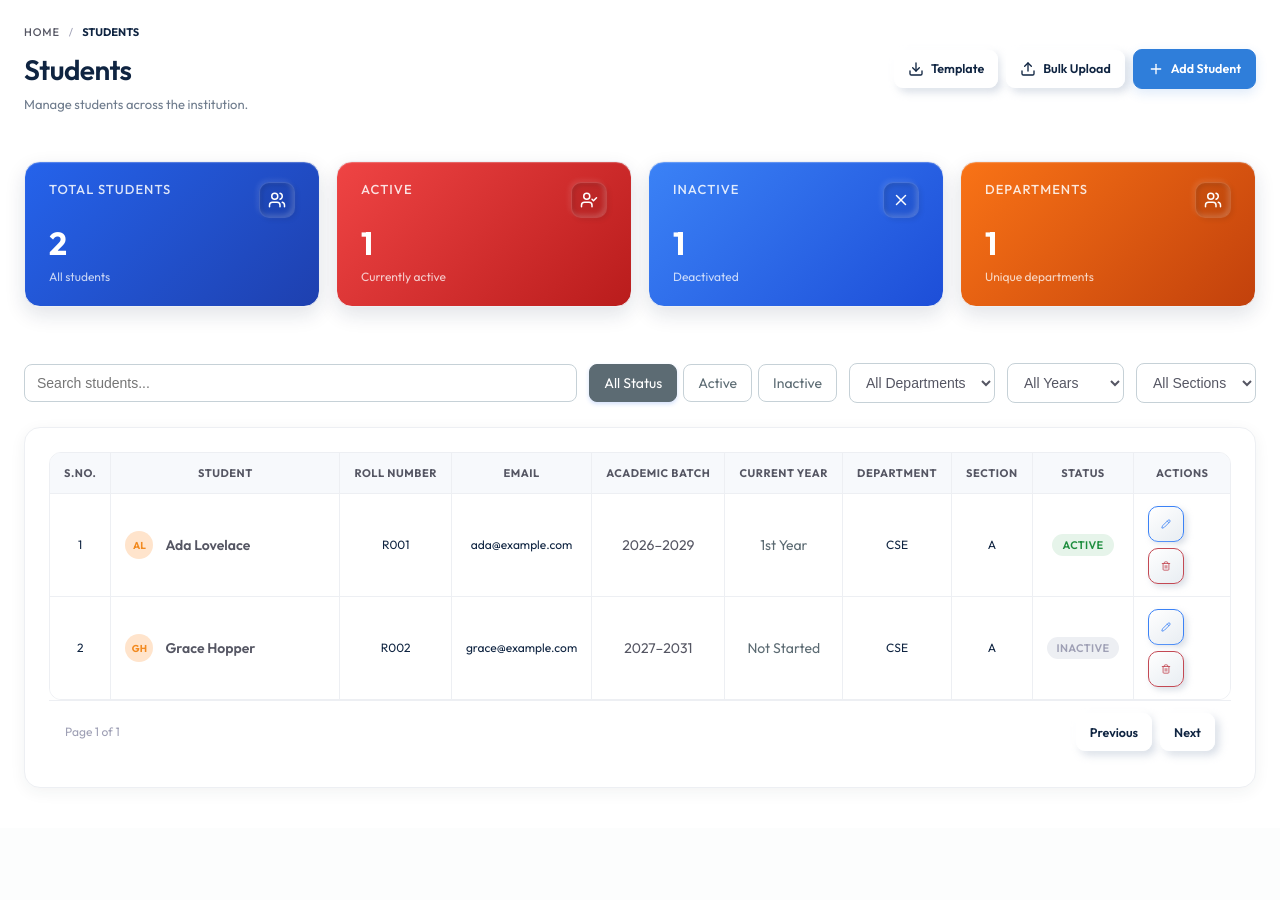
Test: clicking the Active badge opens the deactivation confirmation
The image size is (1280, 900).
Expected: the text "Ada Lovelace" is shown, [165,536,250,554]
Click the button with aria-label "Deactivate Ada Lovelace".
click(1083, 545)  # box [1052,534,1114,556]
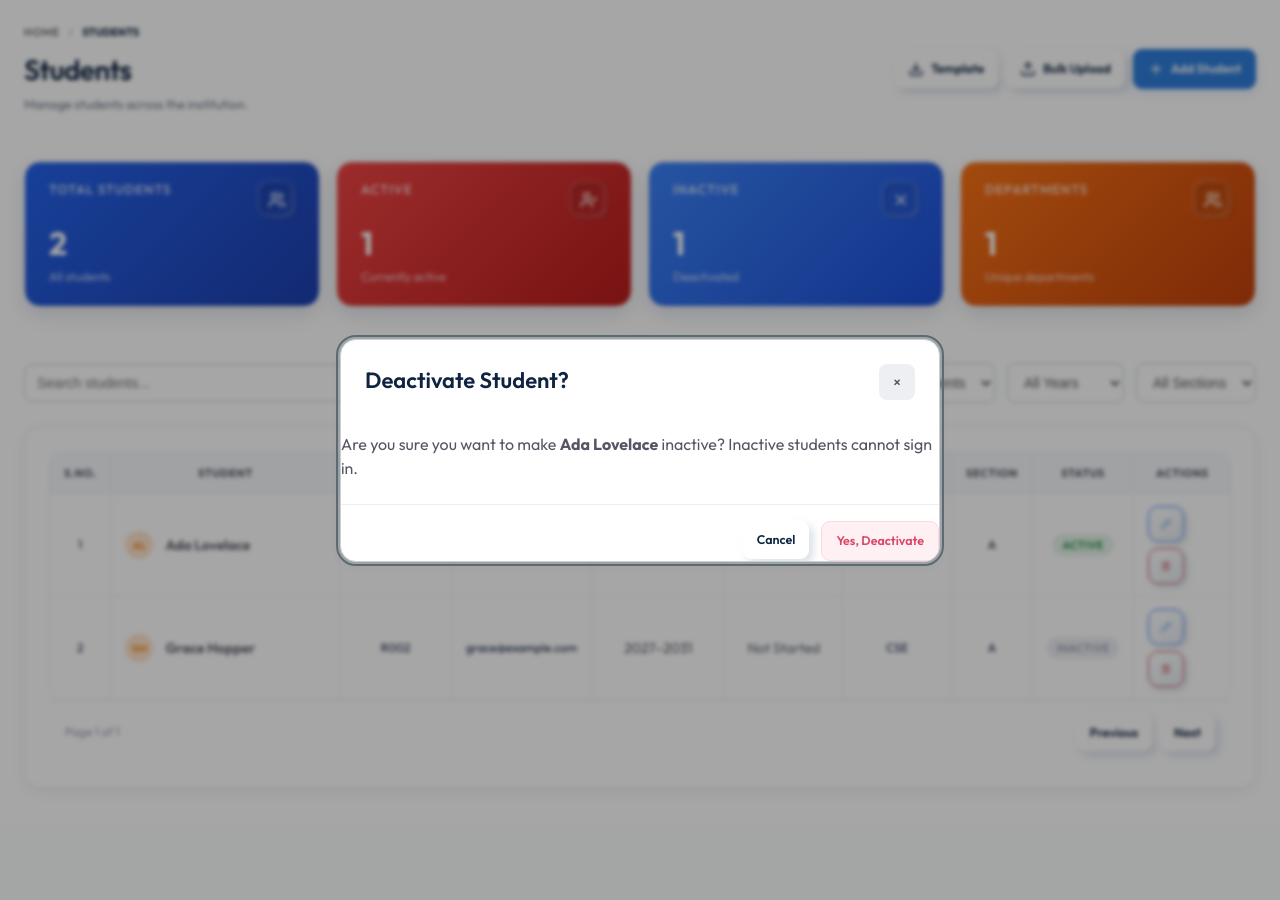
Expected: the text "inactive" is shown, [662,434,717,454]
